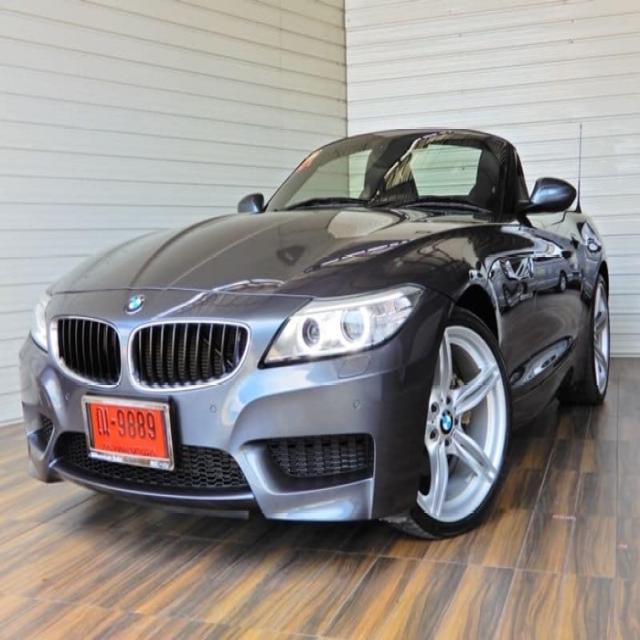plate: (82, 398, 170, 468)
